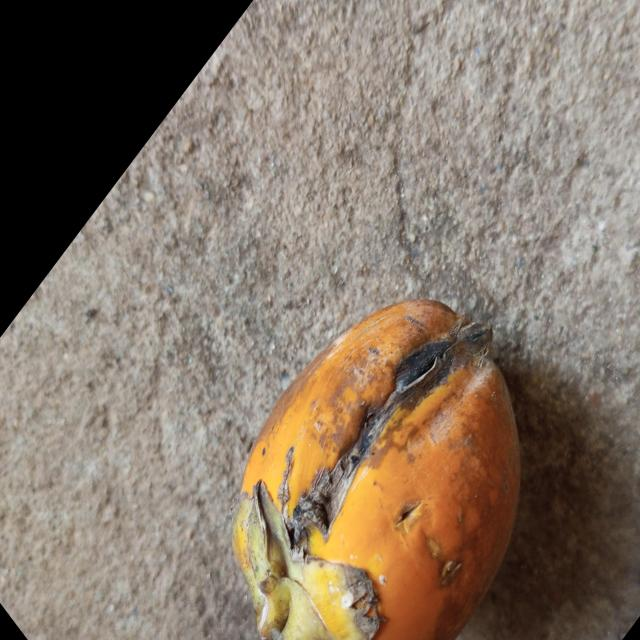damaged: (232, 300, 520, 640)
